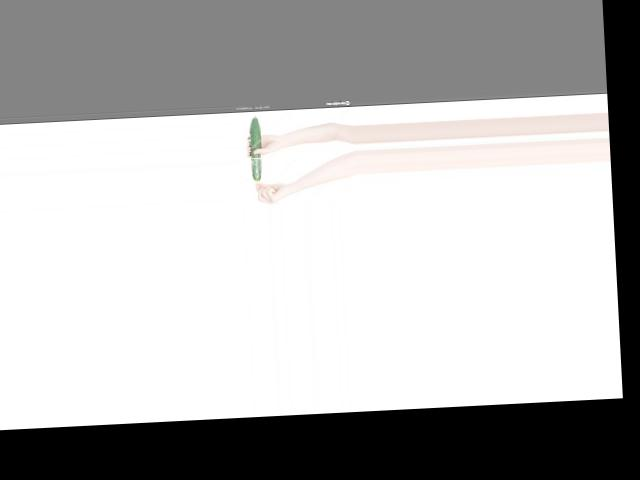cucumber: (248, 115, 261, 181)
